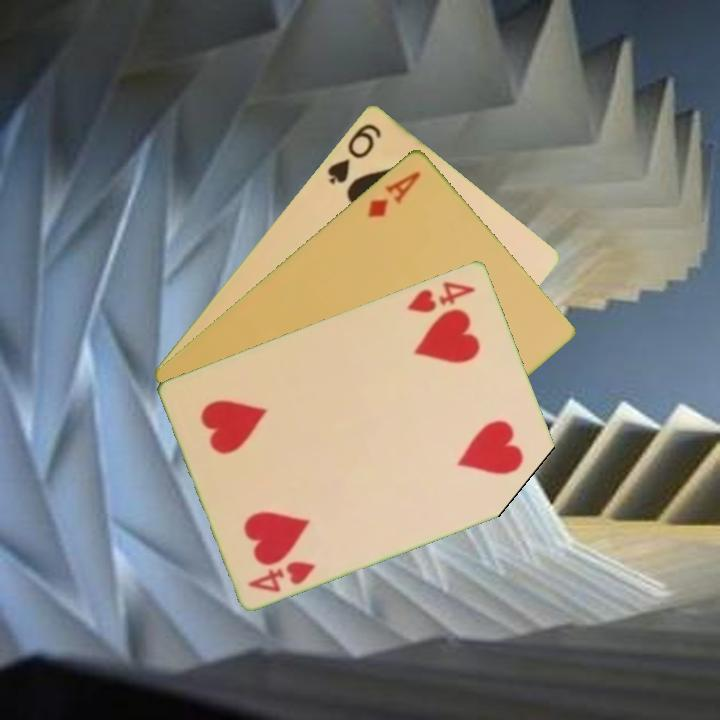4h: (404, 277, 479, 316), (244, 556, 319, 595)
6s: (324, 119, 385, 187)
Ad: (363, 166, 424, 221)
